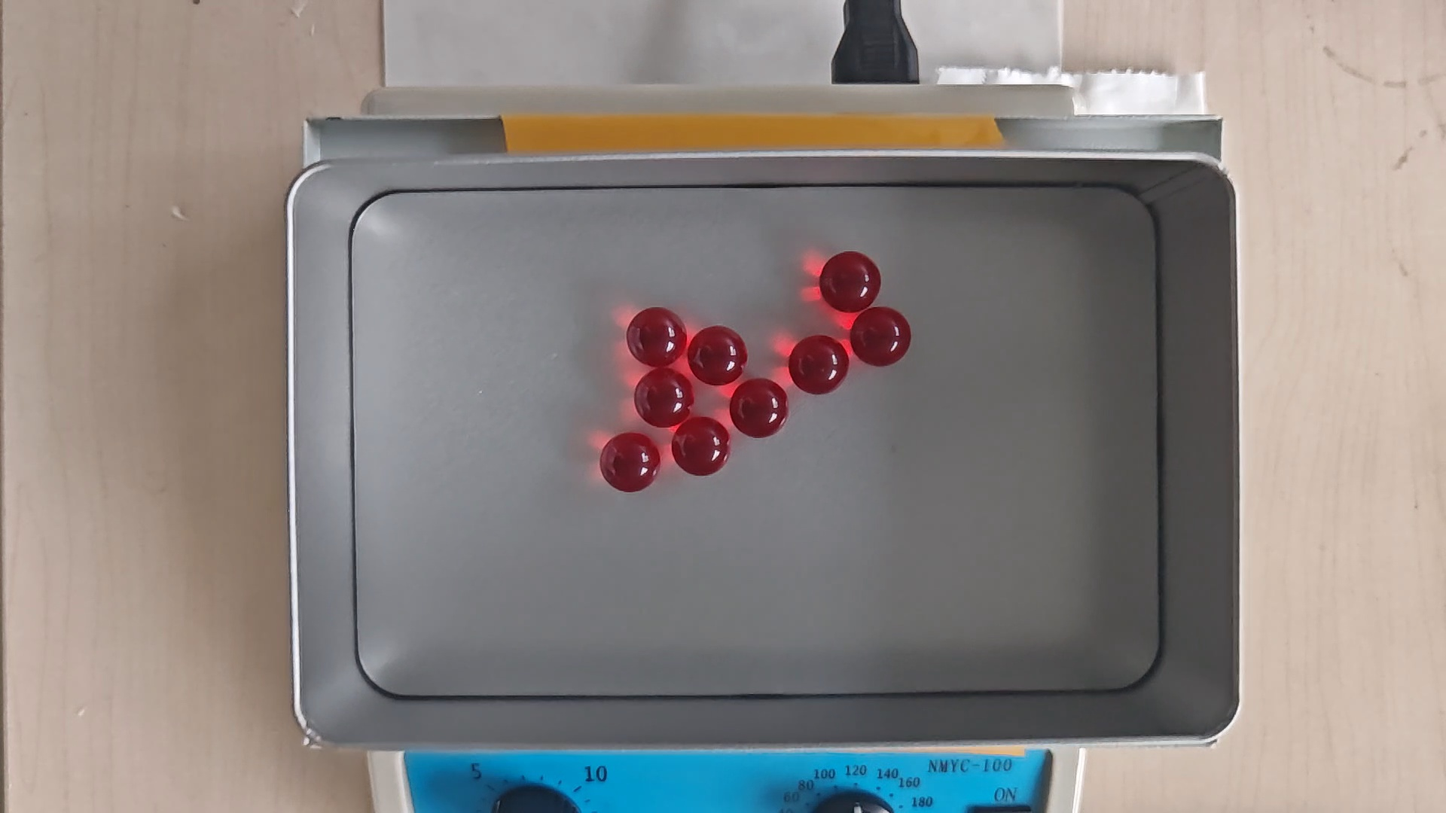ball: (819, 251, 881, 312), (789, 335, 849, 396), (600, 432, 660, 493), (851, 307, 911, 367), (634, 368, 693, 429), (627, 306, 686, 367), (672, 417, 731, 477), (730, 379, 790, 438), (689, 325, 746, 386)
container: (352, 185, 1159, 696)
